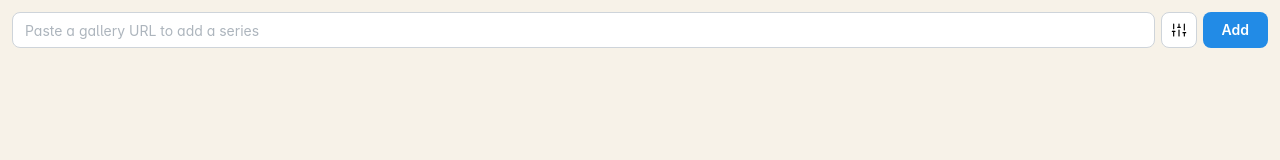
AddSeriesBar › asks for a URL before submitting, and shows server errors
Later steps or results of the test are not shown.
Click the button "Add". click: (1235, 30)
box: [1202, 12, 1268, 48]
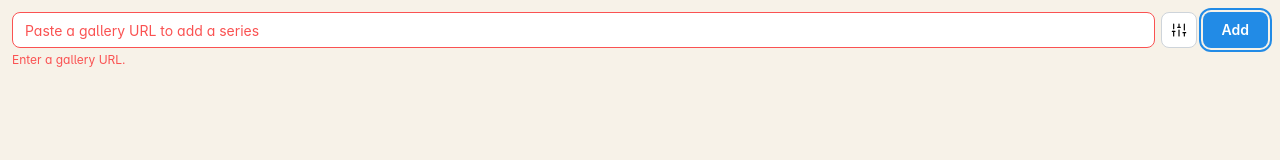
Expected: the text "Enter a gallery URL." is shown, [12, 52, 126, 67]
